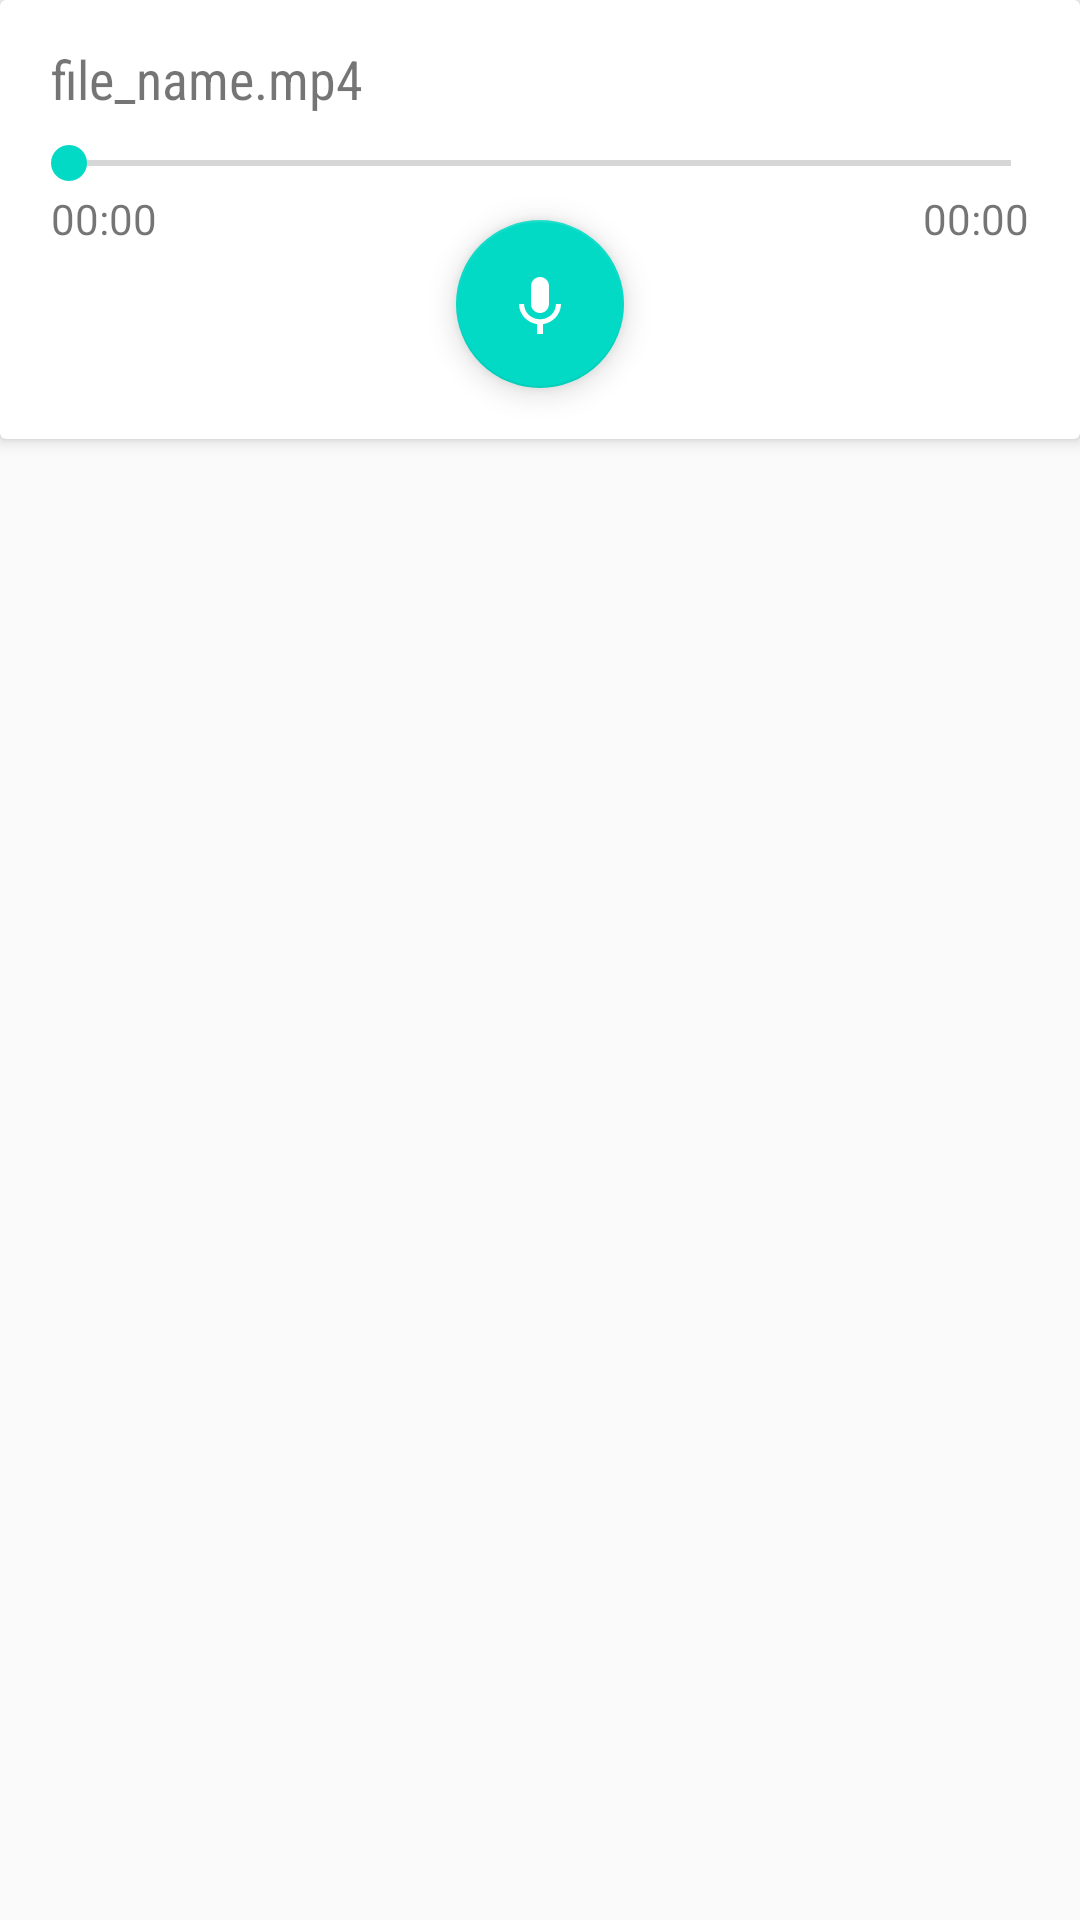

Screen size 1080px x 1920px. Icon name, then its box in pixels as (x1, y1, x2, y2):
record: (456, 220, 624, 388)
